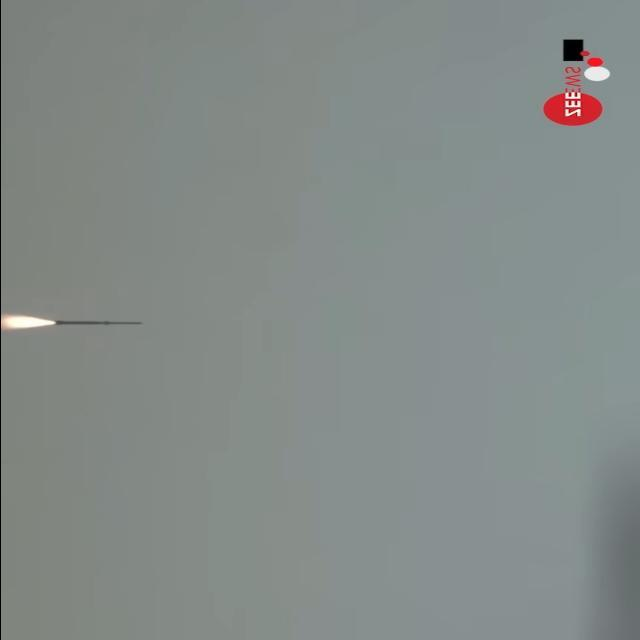Missile: (48, 318, 146, 328)
